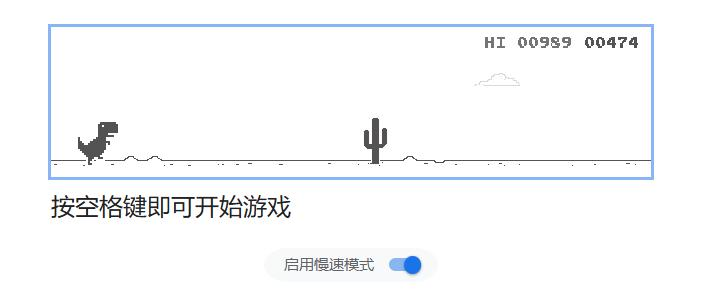cactus: (361, 117, 388, 168)
dino: (75, 120, 119, 165)
